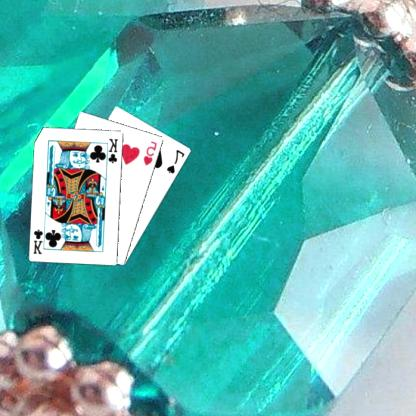5H: (143, 138, 160, 167)
7S: (166, 146, 188, 174)
KC: (33, 224, 49, 255), (105, 136, 121, 166)
